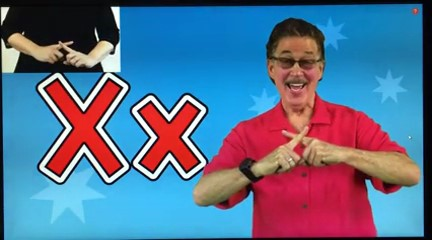X: (252, 120, 347, 177)
